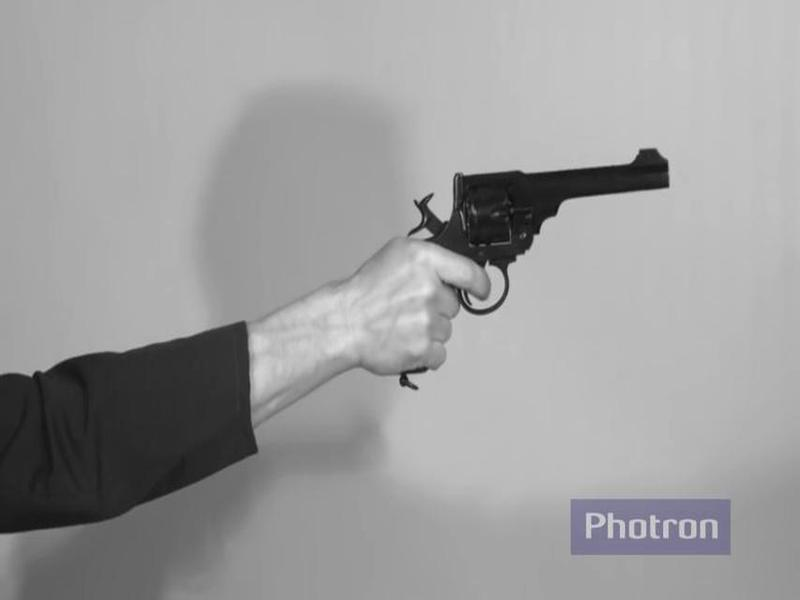Revolver: (386, 120, 677, 338)
